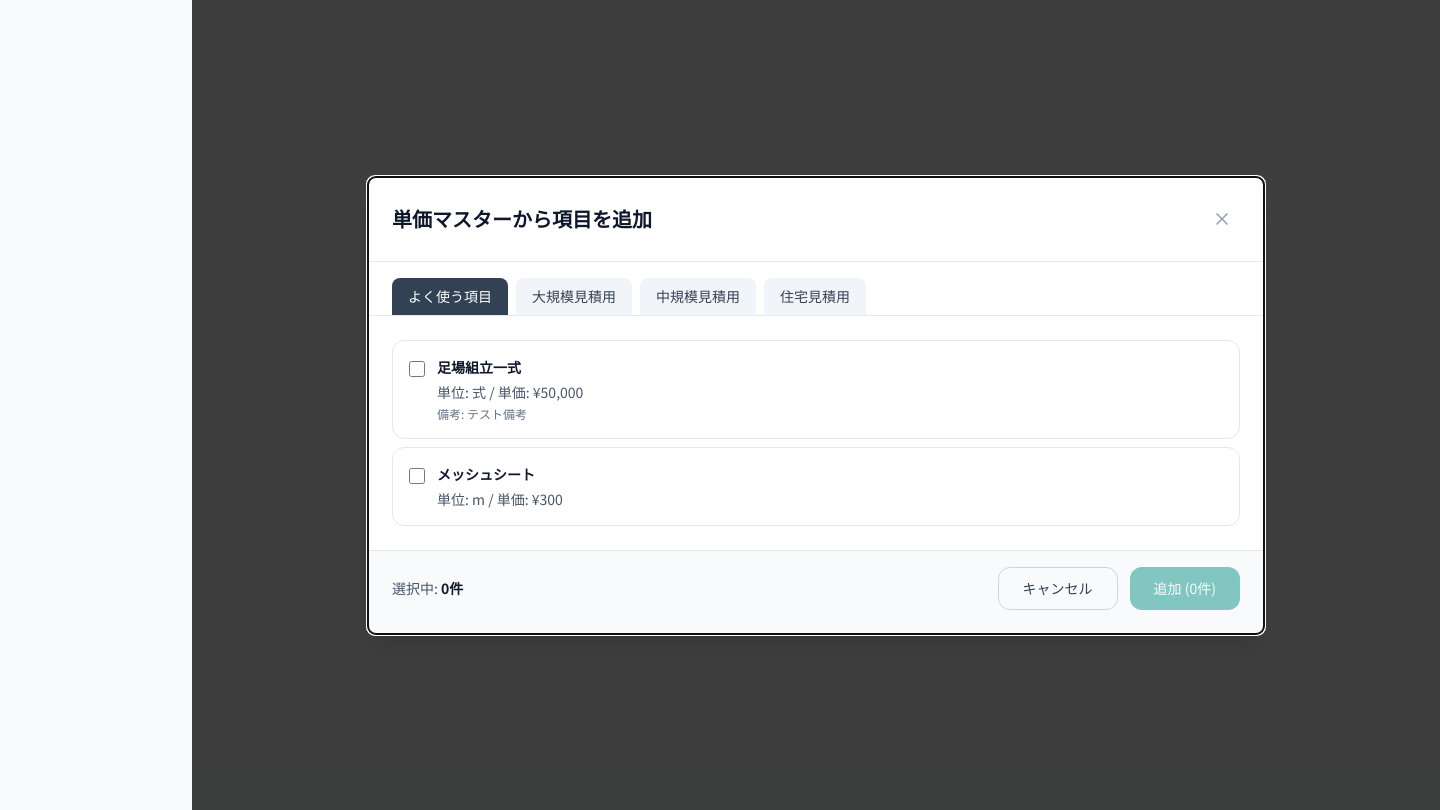
Test: UnitPriceMasterModal › should switch template tabs
Click the button "大規模見積用".
click(574, 296)  # box [516,278,632,314]
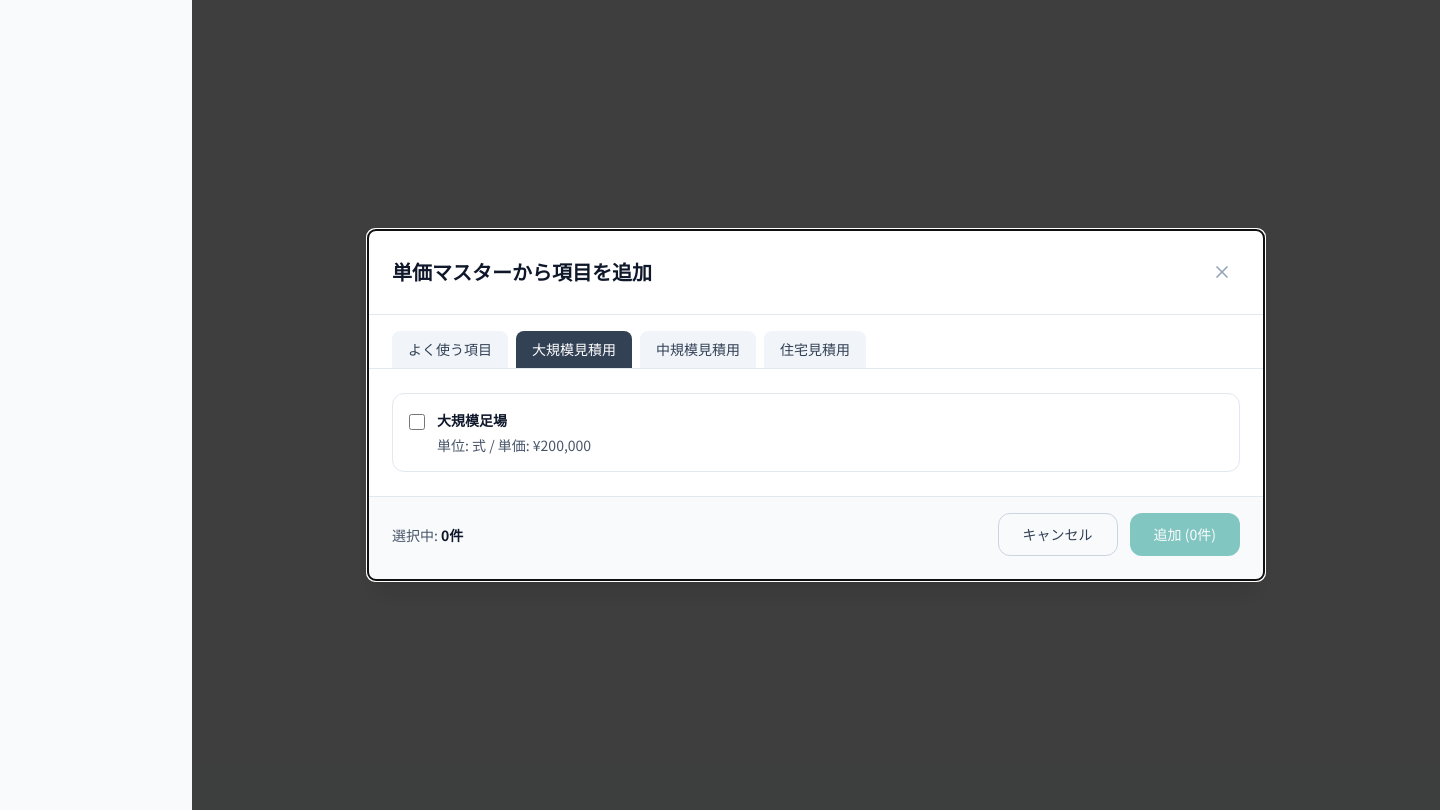
Now the text "大規模足場" is shown, box [437,410,507,430]
